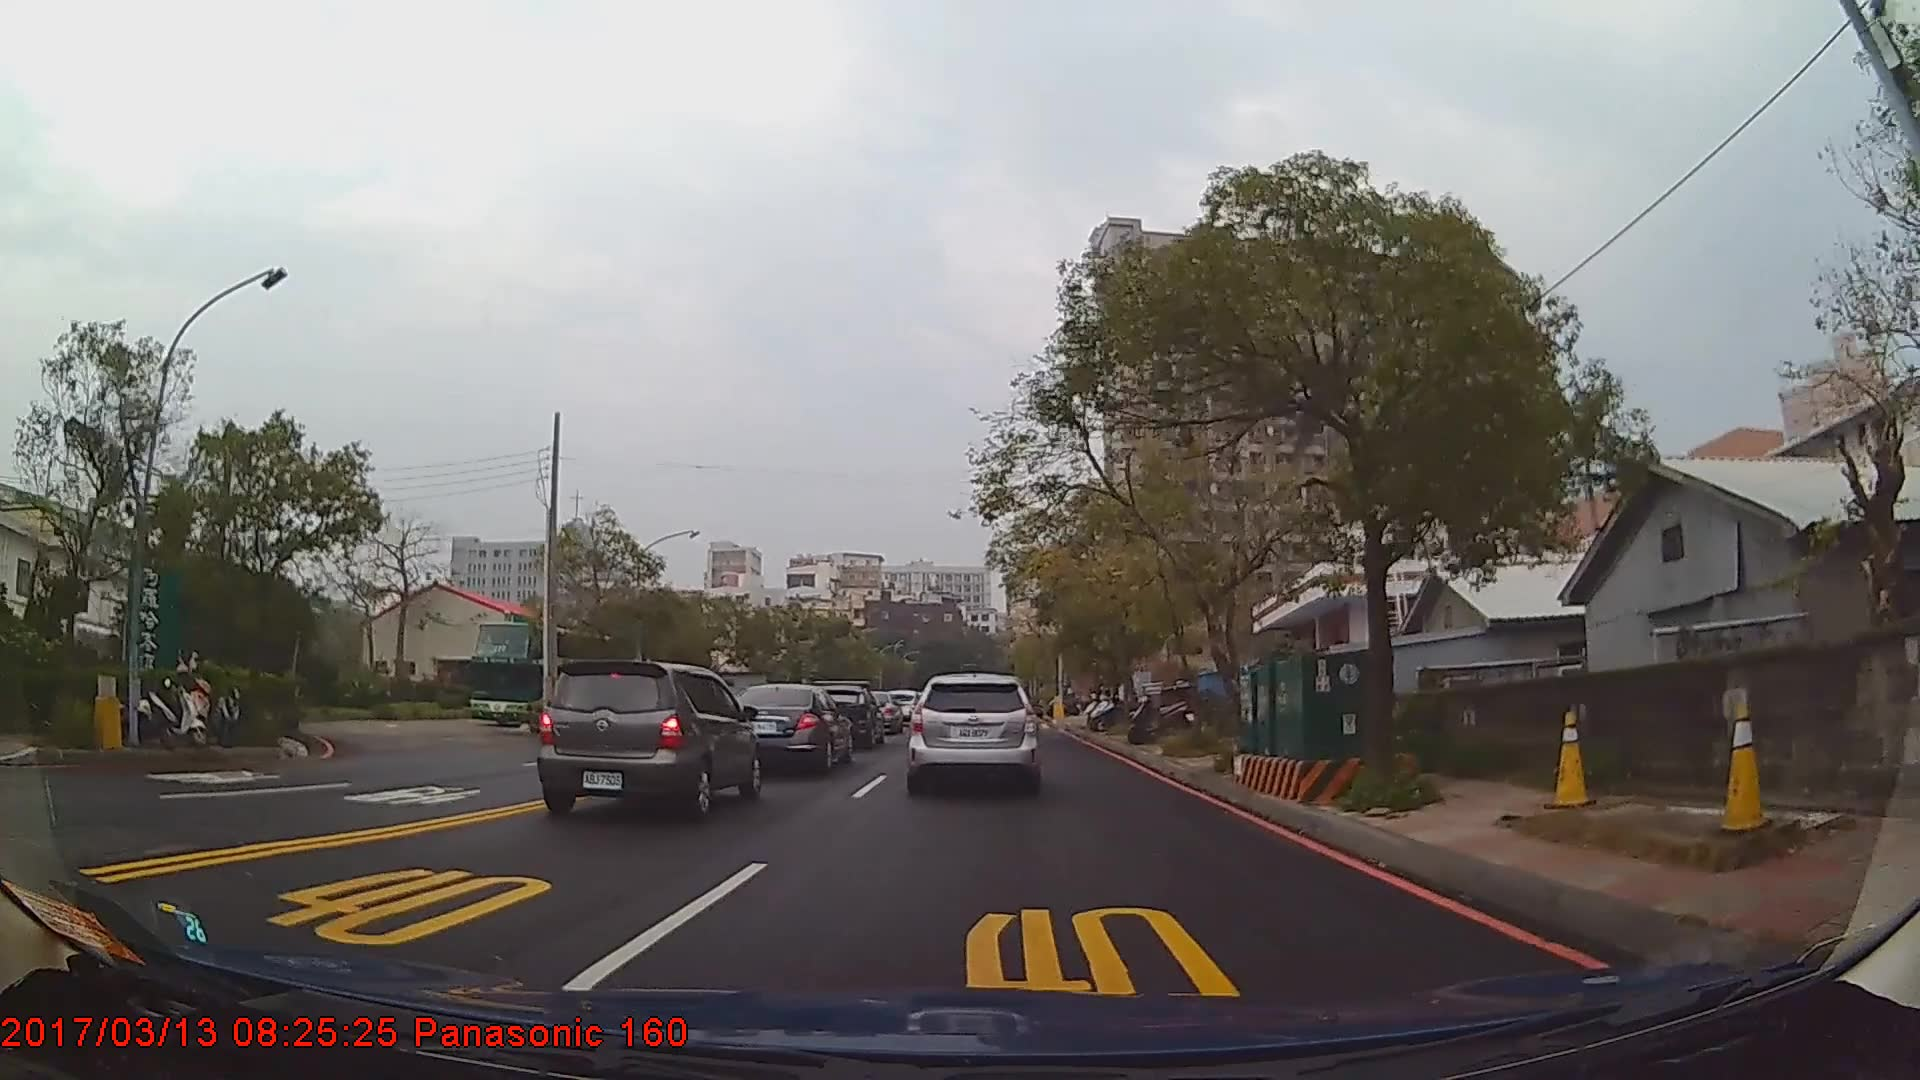vehicle: (533, 659, 761, 824), (468, 621, 638, 731), (906, 673, 1039, 791), (727, 682, 853, 775), (807, 686, 881, 750)
